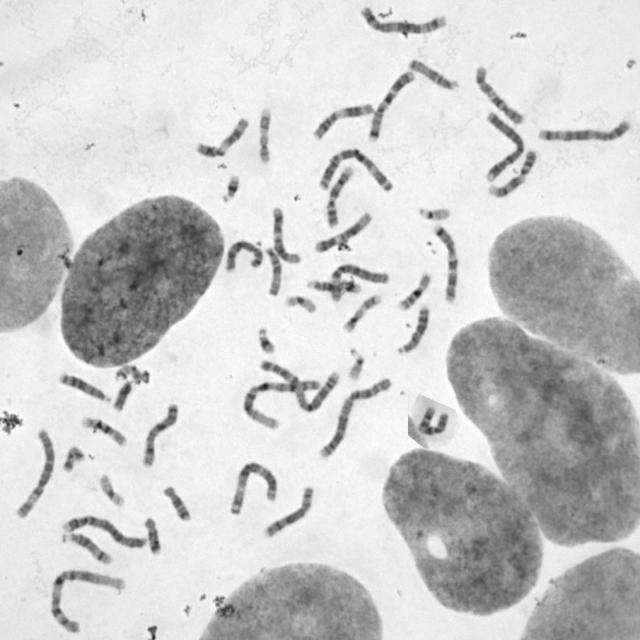A1: (45, 566, 127, 636), (239, 374, 323, 431)
A2: (315, 374, 394, 461), (256, 354, 340, 414)
A3: (314, 144, 395, 194), (227, 458, 280, 516)
B4: (59, 512, 147, 550), (482, 109, 526, 182)
B5: (356, 4, 449, 36), (534, 115, 634, 144)
C10: (472, 63, 526, 126), (415, 406, 450, 436)
C11: (192, 114, 251, 161), (310, 100, 375, 142)
C12: (312, 208, 374, 254), (269, 202, 303, 266)
C6: (12, 424, 56, 520), (325, 259, 390, 302)
C7: (364, 67, 417, 143), (431, 220, 460, 304)
C8: (260, 482, 316, 540), (223, 239, 266, 272)
C9: (484, 146, 538, 199), (322, 163, 355, 229)
D13: (392, 302, 430, 356), (57, 369, 111, 404)
D14: (60, 529, 114, 566), (303, 276, 361, 294)
D15: (406, 56, 461, 92), (262, 244, 283, 296)
E16: (78, 413, 128, 448), (394, 269, 433, 313)
E17: (340, 291, 384, 334), (255, 105, 273, 165)
E18: (161, 482, 192, 523), (141, 514, 162, 556)
F19: (96, 471, 126, 508), (282, 292, 319, 316)
F20: (60, 443, 85, 474), (115, 364, 142, 386)
G21: (218, 172, 241, 204), (255, 324, 277, 355)
G22: (345, 345, 366, 381), (413, 203, 452, 222)
X: (139, 401, 180, 468)
Y: (112, 378, 134, 411)
